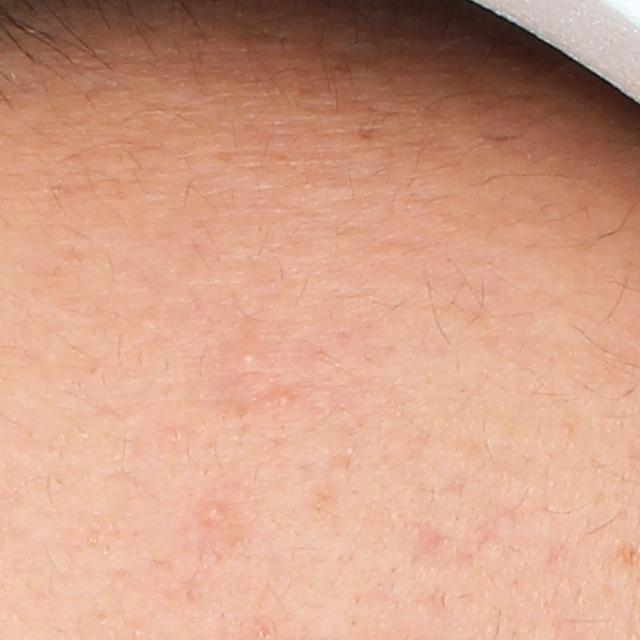comedo: (242, 352, 260, 366)
